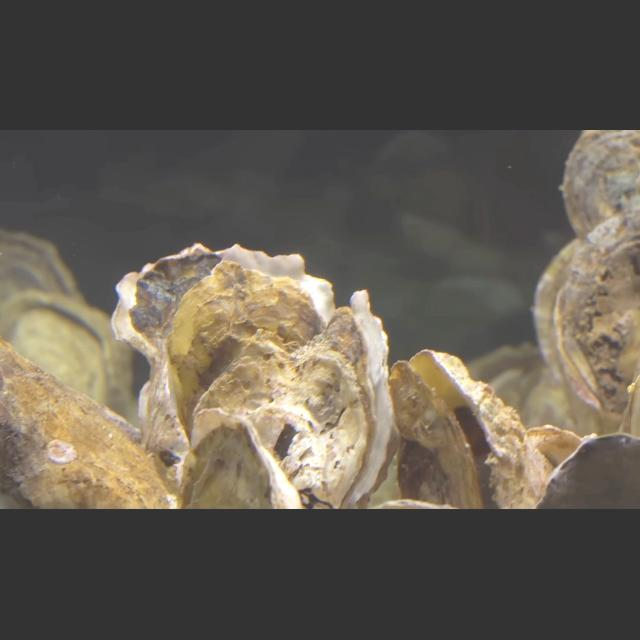Oyster-Closed: (166, 258, 330, 452), (196, 328, 370, 510), (534, 213, 640, 415), (0, 226, 84, 334), (564, 130, 640, 240), (539, 429, 640, 511)
Oyster-Open: (111, 242, 339, 496), (0, 327, 190, 510), (389, 347, 551, 511), (311, 285, 397, 511), (0, 288, 138, 416), (171, 400, 307, 510)
